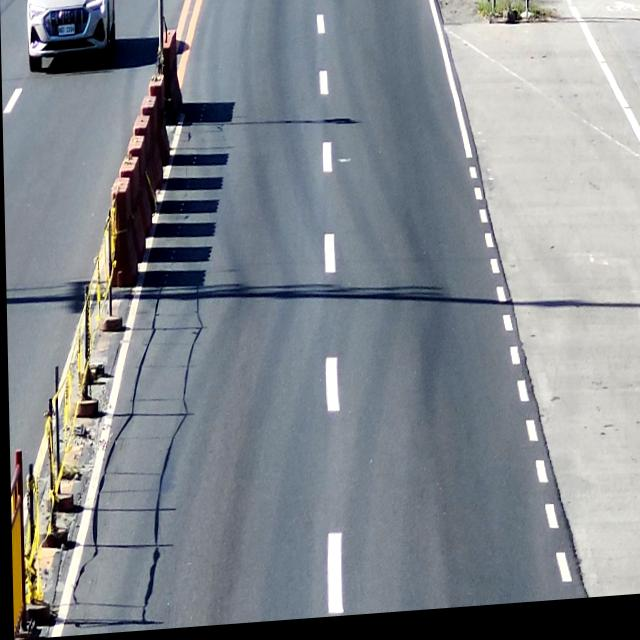Car: (22, 0, 121, 81)
License-Plate: (54, 26, 76, 39)
